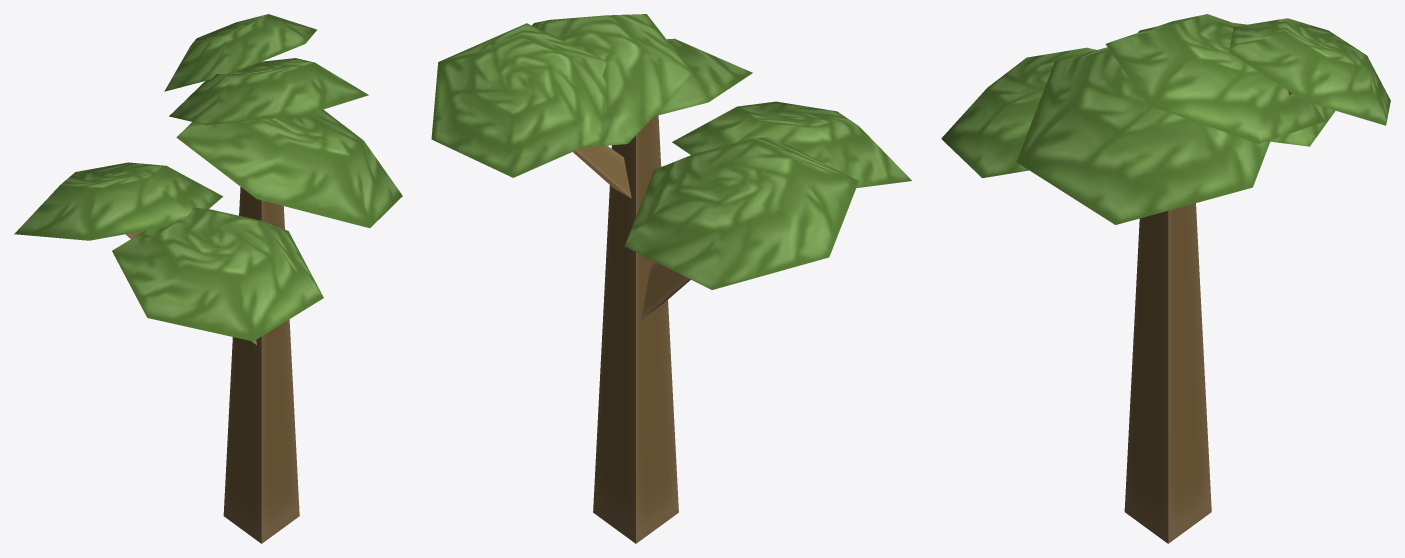
File: env_Tree_Deciduous_A.FBX
3 views of the same model, side by side, from view 1: azimuth 30°, elevation 25°; view 2: azimuth 150°, elevation 25°; view 3: azimuth 270°, elevation 25° (orthographic). The views are drawn at different scales.
Parts seen in each view (by area): view 1: env_Tree_Deciduous_A; view 2: env_Tree_Deciduous_A; view 3: env_Tree_Deciduous_A.
Boxes of the visible parts, x1=… form: env_Tree_Deciduous_A: x1=14, y1=14, x2=402, y2=543; env_Tree_Deciduous_A: x1=431, y1=14, x2=911, y2=543; env_Tree_Deciduous_A: x1=941, y1=14, x2=1390, y2=543.
Bounding box in the file's own units: 459 × 608 × 476.
